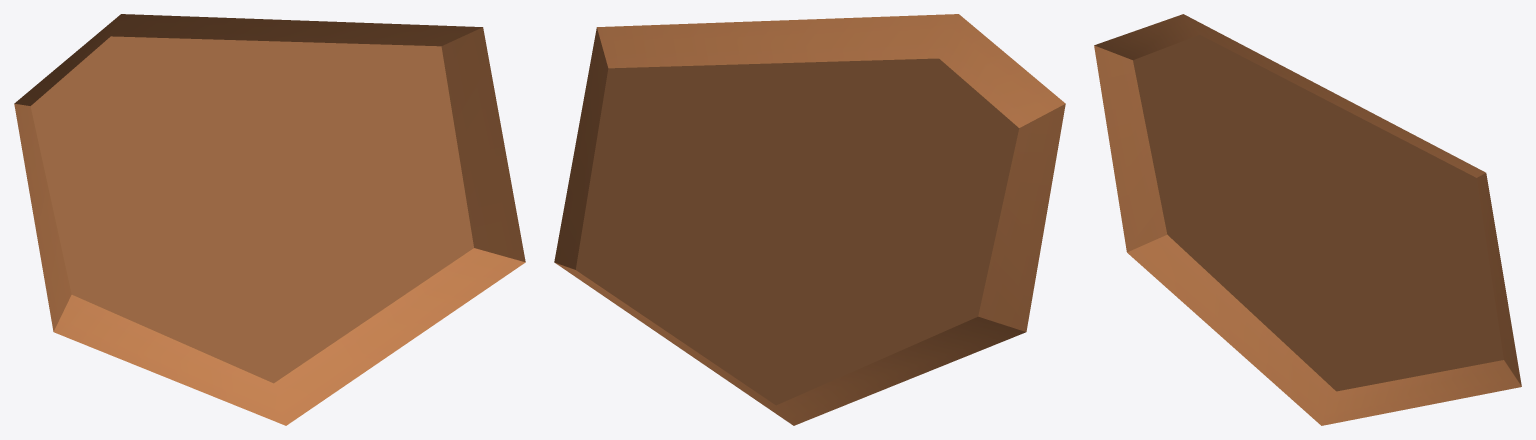
The model's file is Tiles 03.FBX.
3 renders of one model, left to right at view 1: azimuth 30°, elevation 25°; view 2: azimuth 150°, elevation 25°; view 3: azimuth 330°, elevation 25°, orthographic. The views are drawn at different scales.
Parts seen in each view (by area): view 1: Tiles 03; view 2: Tiles 03; view 3: Tiles 03.
Part boxes in pixels (x1,y1,x2,y2): Tiles 03: [14, 14, 525, 425]; Tiles 03: [554, 14, 1065, 425]; Tiles 03: [1094, 14, 1521, 425].
Bounding box in the file's own units: 101 × 85.25 × 5.15.
Materials: 1 (1 with a texture image).
